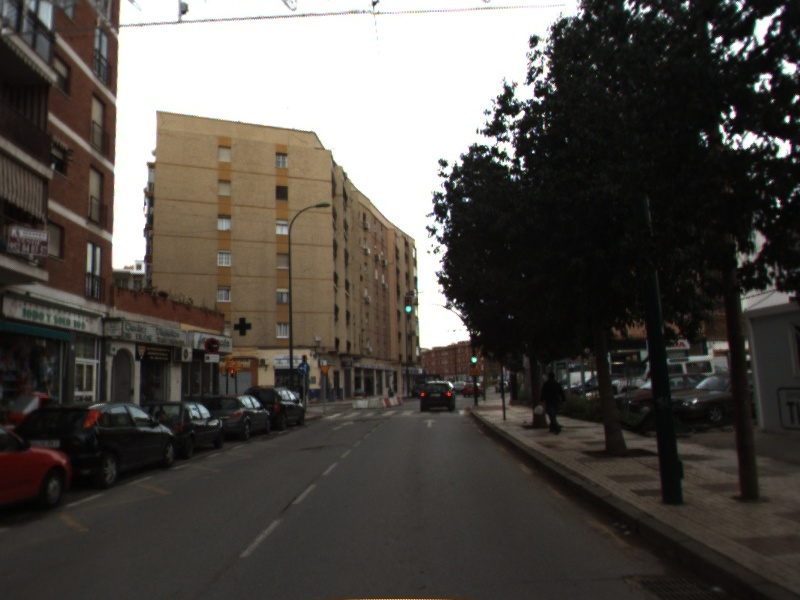STRAIGHT: (331, 419, 357, 432), (421, 417, 440, 429)
